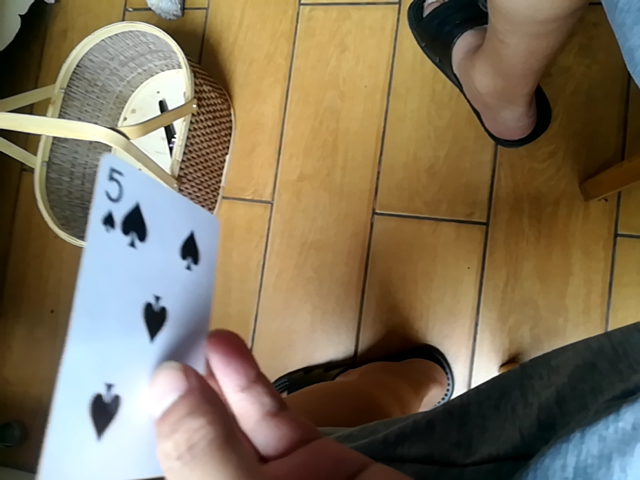ht 5: (39, 151, 220, 463)
